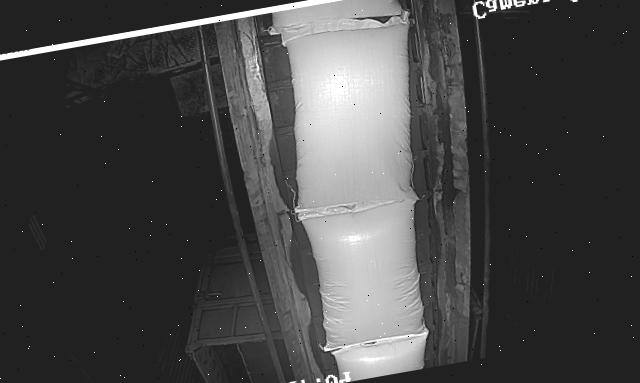bag: (266, 9, 442, 219), (300, 190, 440, 351), (331, 330, 434, 382), (269, 0, 402, 33)
